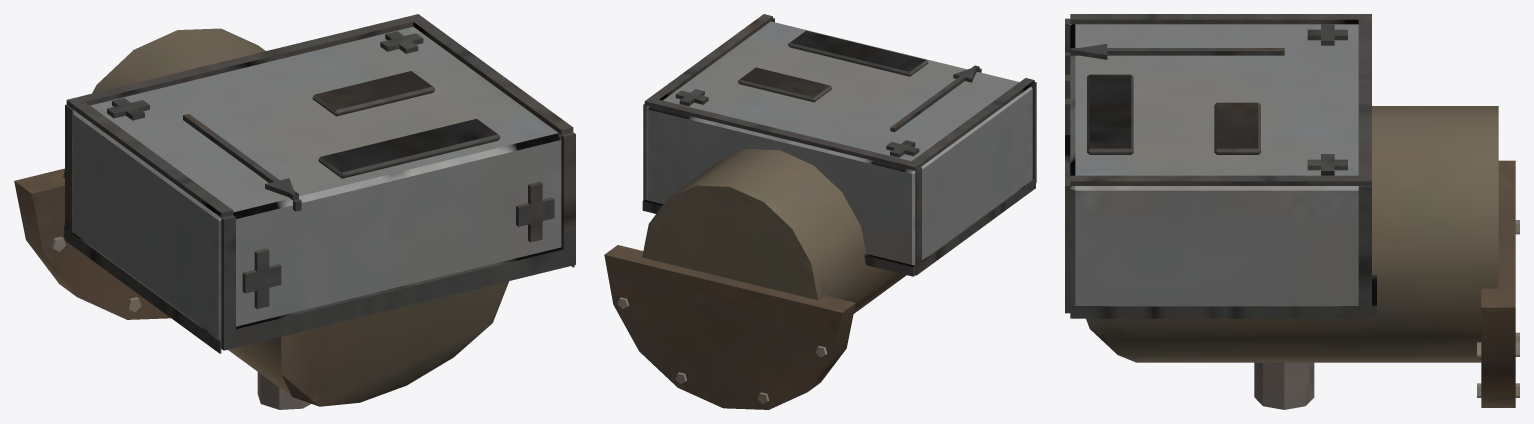
The model's file is top-up-valve-south.glb.
3 renders of one model, left to right at view 1: azimuth 30°, elevation 25°; view 2: azimuth 150°, elevation 25°; view 3: azimuth 270°, elevation 25°, orthographic. The views are drawn at different scales.
Parts seen in each view (by area): view 1: body; view 2: body; view 3: body.
Boxes of the visible parts, x1=… form: body: x1=14, y1=14, x2=575, y2=409; body: x1=604, y1=14, x2=1036, y2=409; body: x1=1065, y1=14, x2=1519, y2=409.
Size of the model in its own units: 0.932 by 0.776 by 1.06.
Materials: 1 (1 with a texture image).
